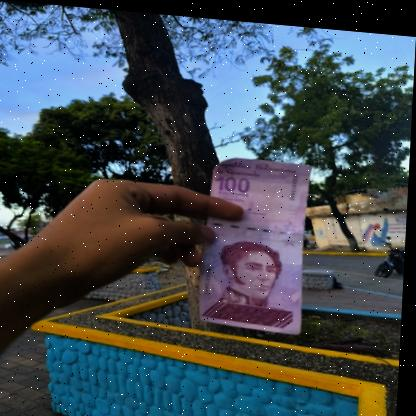one_hundred-front-vef: (202, 150, 313, 328)
